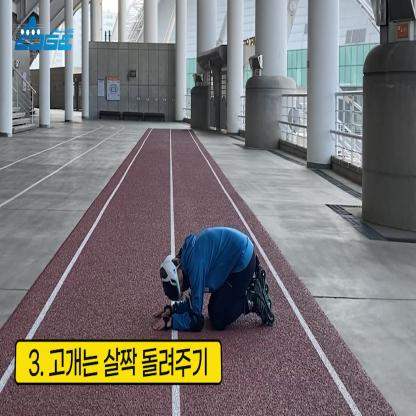Fall_Down: (153, 226, 272, 333)
